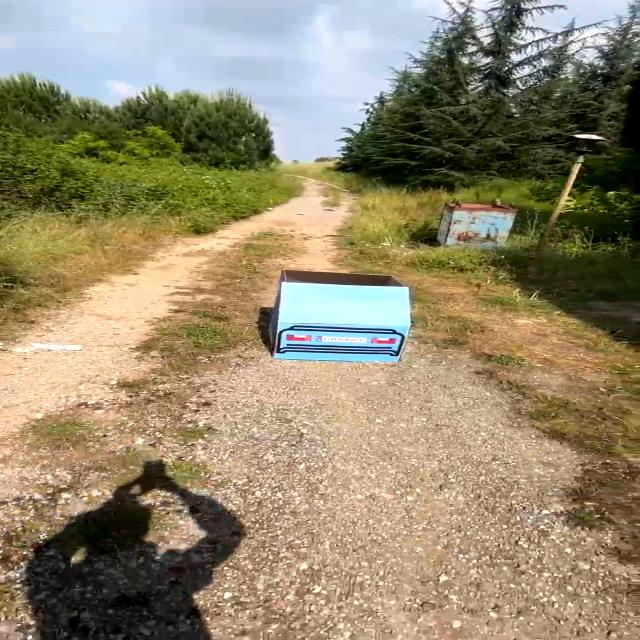blue_car: (253, 254, 423, 372)
